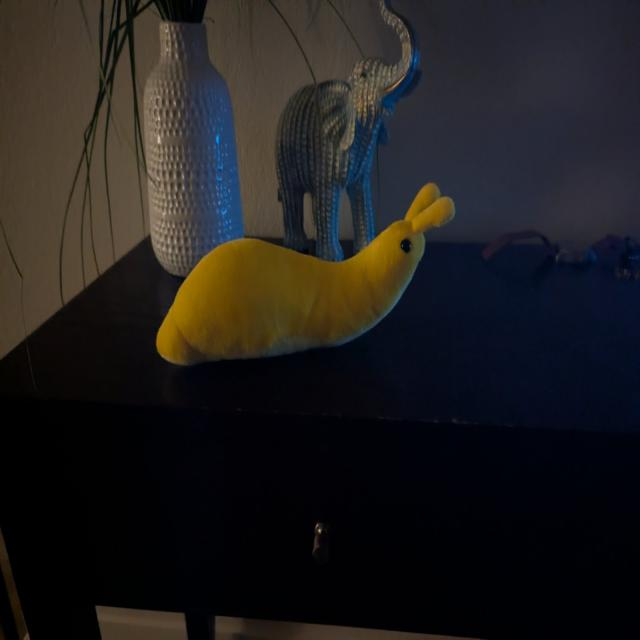banana-slug-toy: (148, 175, 461, 374)
